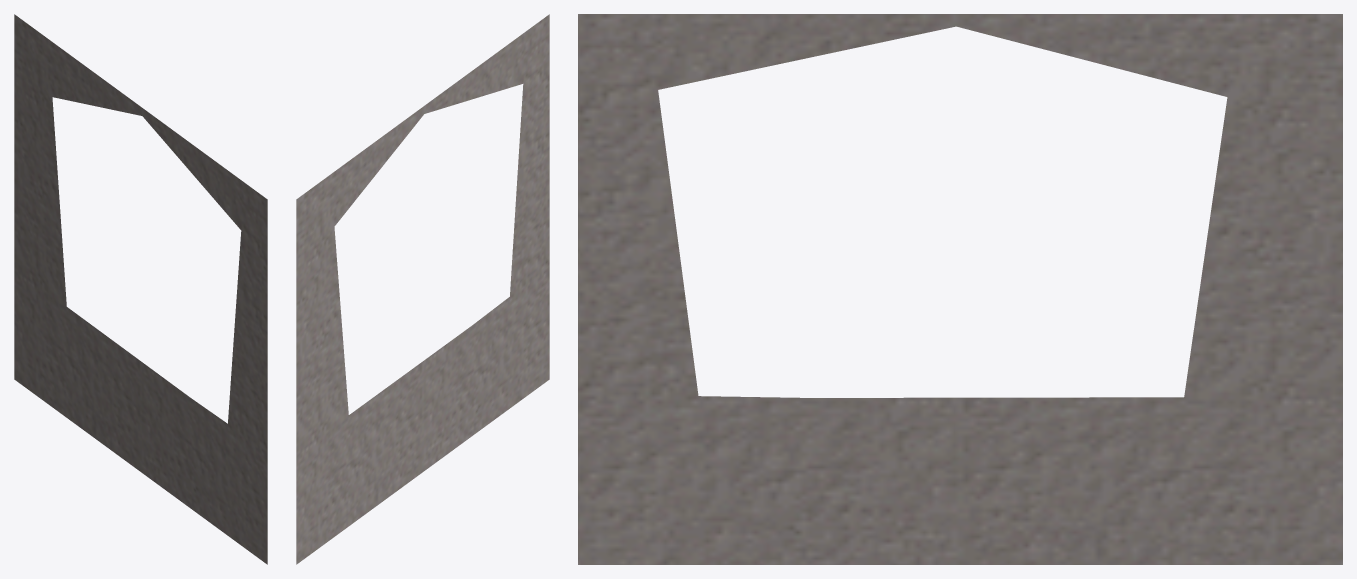
File: W_AI1_f_Groß [Marmor]_531.glb
3 renders of one model, left to right at view 1: azimuth 30°, elevation 25°; view 2: azimuth 150°, elevation 25°; view 3: azimuth 270°, elevation 25°, orthographic. The views are drawn at different scales.
Parts seen in each view (by area): view 1: polySurfaceShape793; view 2: polySurfaceShape793; view 3: polySurfaceShape793.
Boxes of the visible parts, x1,y1,x2,y2 form: polySurfaceShape793: (14,14,267,564); polySurfaceShape793: (296,14,549,564); polySurfaceShape793: (578,14,1342,564).
Bounding box in the file's own units: 1.58e-07 × 0.3486 × 0.4385.
1 material, 1 textured.
